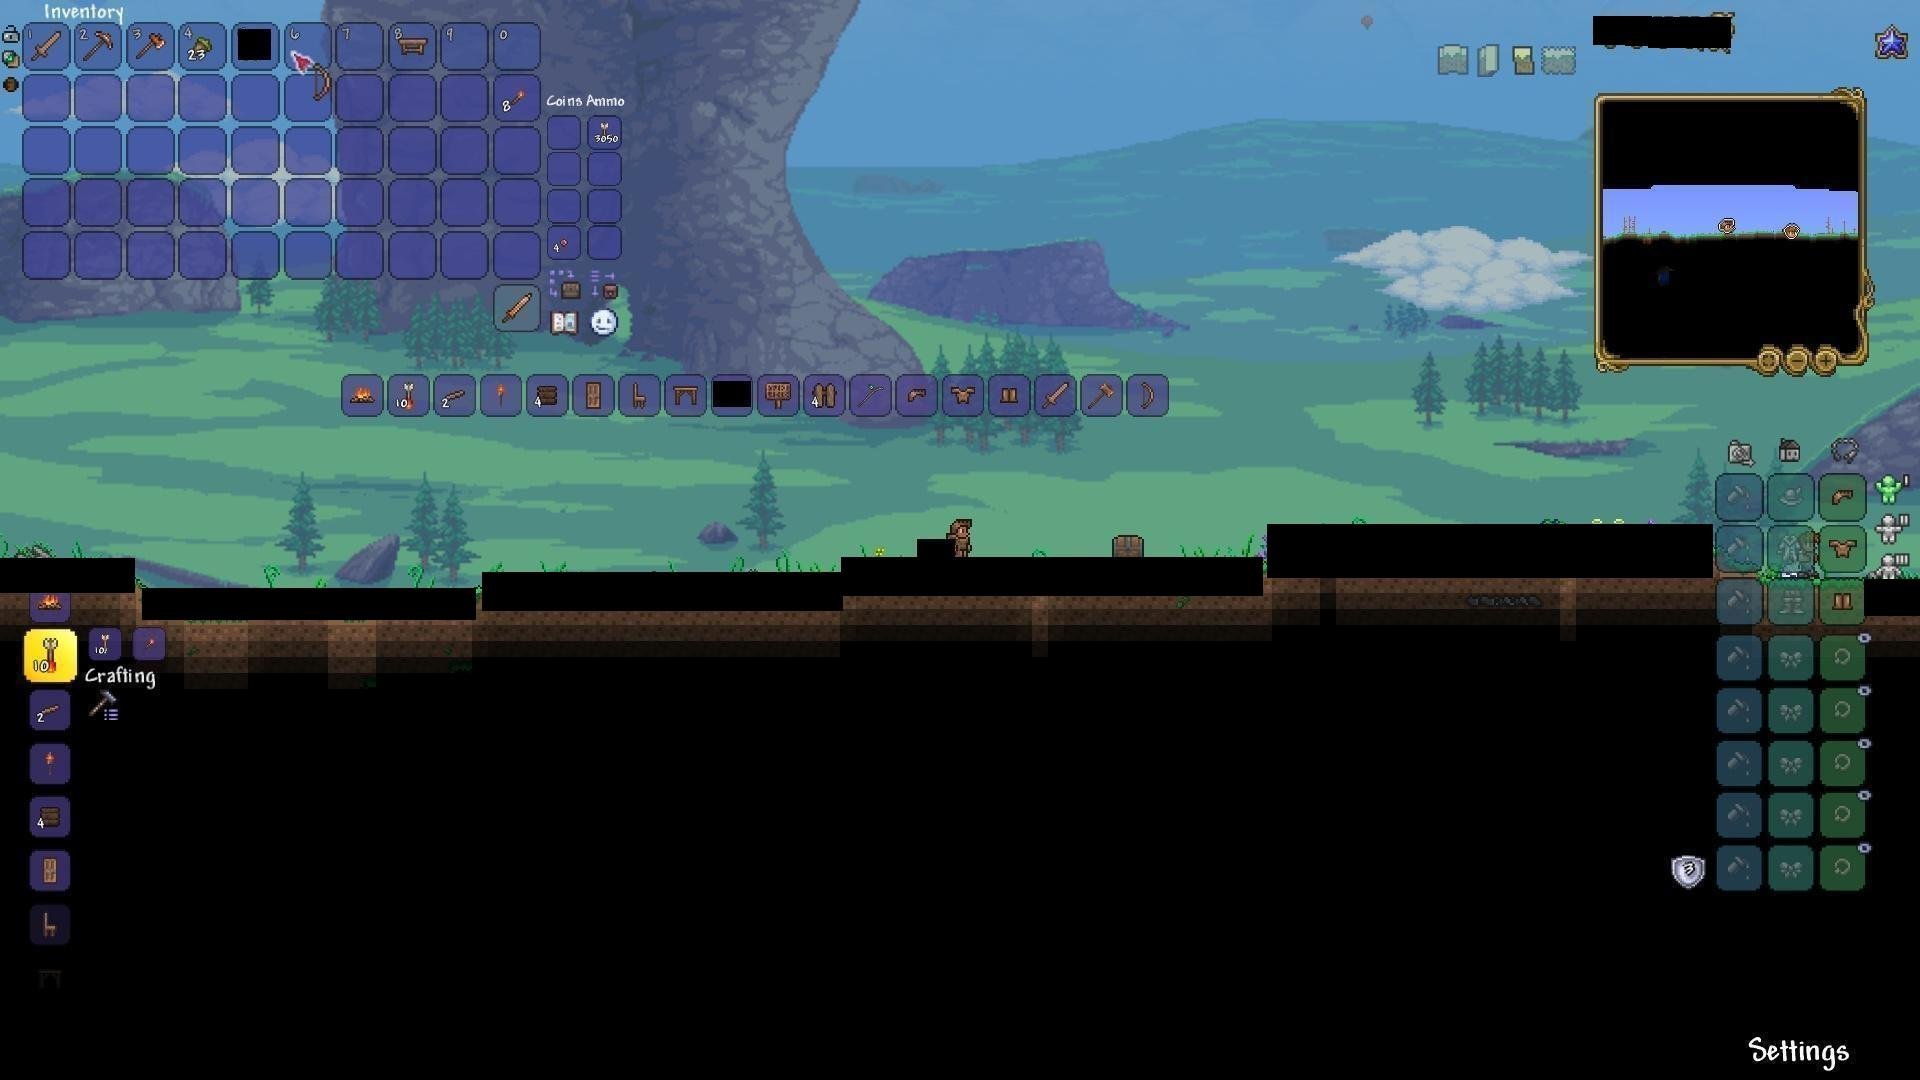breastplate: (948, 382, 978, 404), (1829, 537, 1859, 558)
helmet: (1826, 483, 1859, 512), (902, 382, 934, 410)
legs: (998, 382, 1023, 410), (1832, 589, 1857, 617)
workbench: (394, 36, 431, 61)
